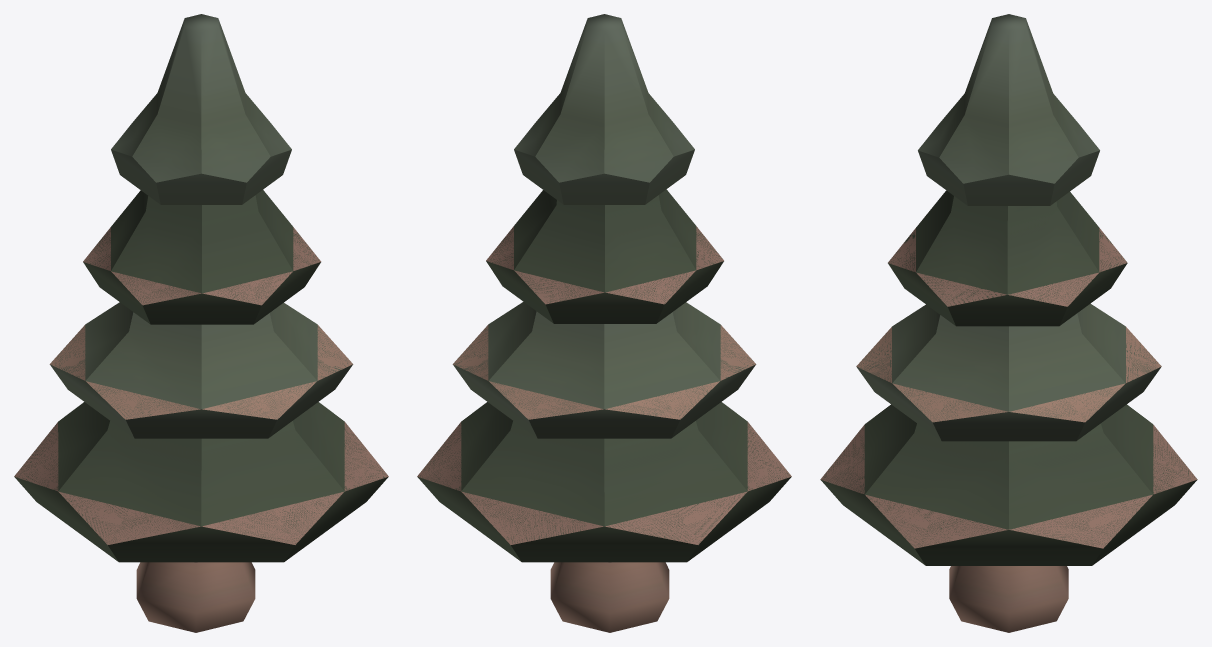
Rendered from pine.glb.
The picture shows the model from 3 angles, left to right: view 1: azimuth 30°, elevation 25°; view 2: azimuth 150°, elevation 25°; view 3: azimuth 270°, elevation 25°; orthographic projection.
Parts seen in each view (by area): view 1: pine; view 2: pine; view 3: pine.
Boxes of the visible parts, x1,y1,x2,y2 form: pine: (14, 14, 388, 632); pine: (417, 14, 791, 632); pine: (820, 14, 1197, 632).
Size of the model in its own units: 3.53 by 6.91 by 4.
Materials: 1 (1 with a texture image).
